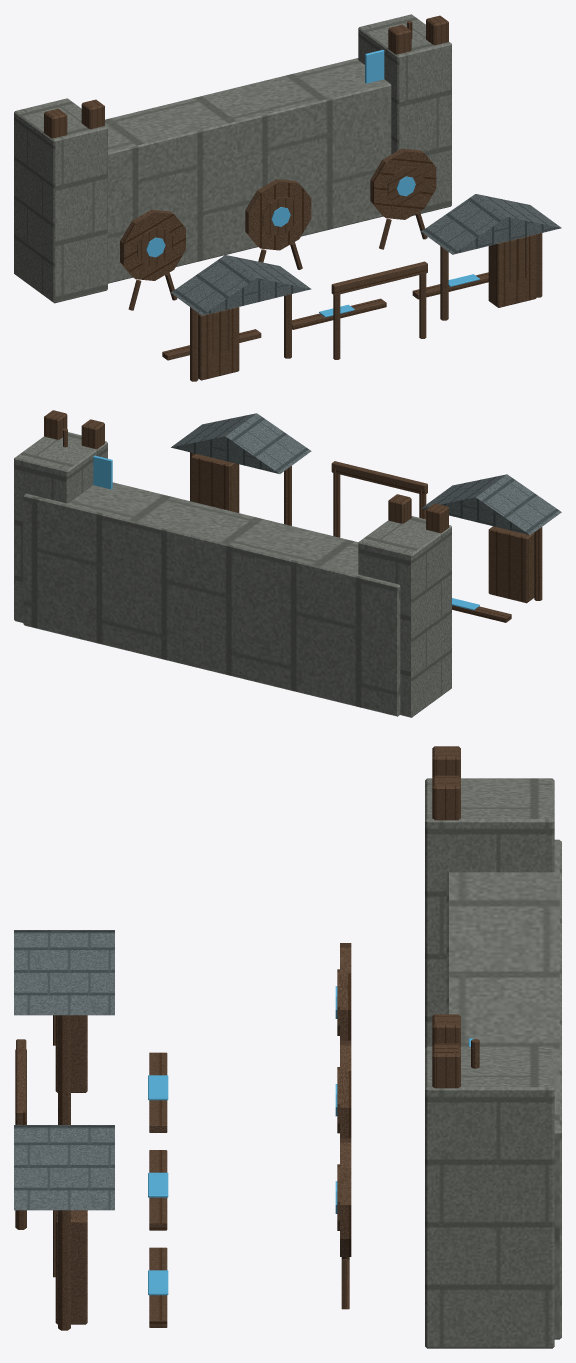
Rendered from edificio-b_000-e2-lod0-DM6A0G6F.glb.
3 views of the same model, one above another, from view 1: azimuth 30°, elevation 25°; view 2: azimuth 150°, elevation 25°; view 3: azimuth 270°, elevation 25° (orthographic). The views are drawn at different scales.
Parts seen in each view (by area): view 1: envolvente_arqueria, team_color; view 2: envolvente_arqueria, team_color; view 3: envolvente_arqueria, team_color.
Boxes of the visible parts, <box> form: envolvente_arqueria: <box>14,14,561,381</box>; team_color: <box>146,49,479,317</box>; envolvente_arqueria: <box>14,410,561,717</box>; team_color: <box>93,455,479,610</box>; envolvente_arqueria: <box>14,746,561,1348</box>; team_color: <box>148,986,473,1295</box>.
Size of the model in its own units: 51 by 22.59 by 38.
Materials: 2 (1 with a texture image).
